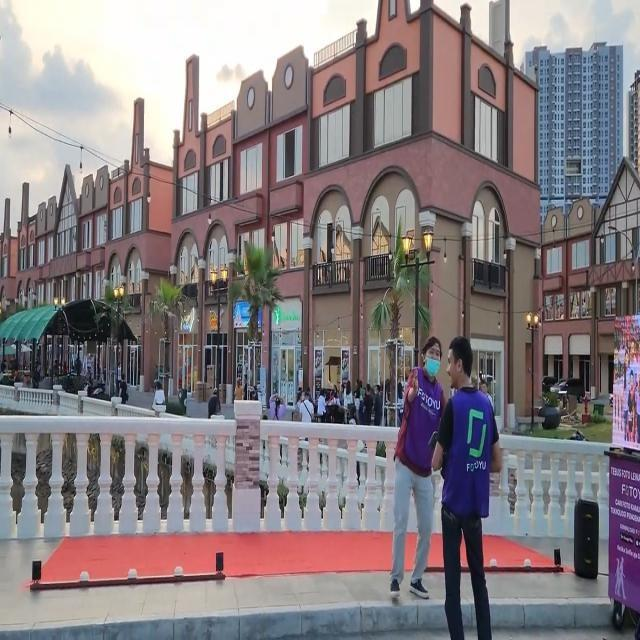hairnet: (424, 343, 440, 376)
